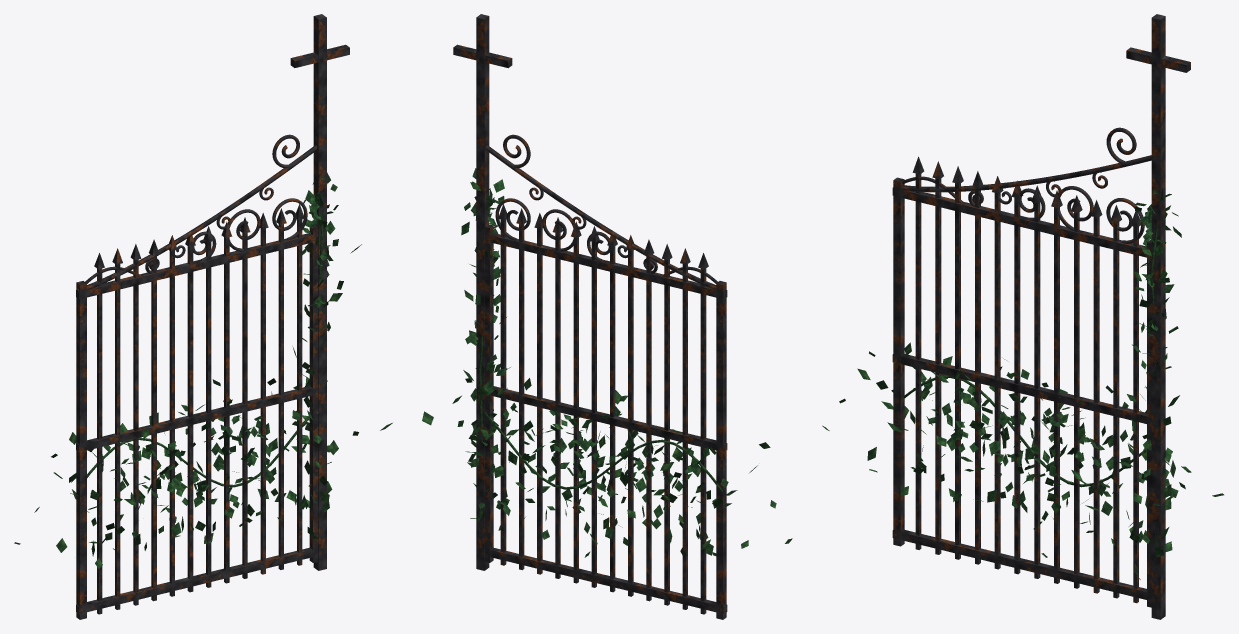
The model's file is reja_hoja_izq.obj.
The picture shows the model from 3 angles, left to right: view 1: azimuth 30°, elevation 25°; view 2: azimuth 150°, elevation 25°; view 3: azimuth 330°, elevation 25°; orthographic projection. The views are drawn at different scales.
Parts seen in each view (by area): view 1: Reja_Hoja_Izq, Hiedra_Hoja_Izq; view 2: Reja_Hoja_Izq, Hiedra_Hoja_Izq; view 3: Reja_Hoja_Izq, Hiedra_Hoja_Izq.
Boxes of the visible parts, box(x1,y1,x2,y2) form: Reja_Hoja_Izq: box(76, 14, 349, 619); Hiedra_Hoja_Izq: box(14, 172, 392, 568); Reja_Hoja_Izq: box(453, 14, 727, 619); Hiedra_Hoja_Izq: box(422, 168, 792, 557); Reja_Hoja_Izq: box(892, 14, 1190, 619); Hiedra_Hoja_Izq: box(822, 188, 1223, 579).
Bounding box in the file's own units: 2.71 × 3.82 × 0.4187.
2 materials, 2 textured.
